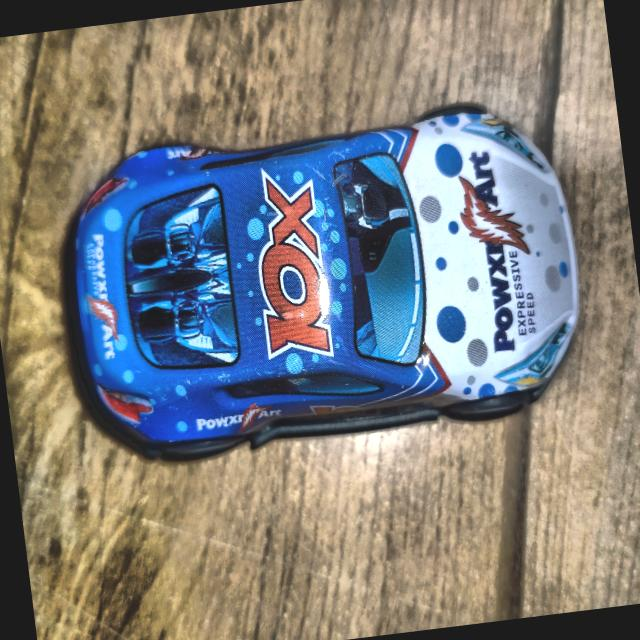Car: (58, 95, 590, 459)
